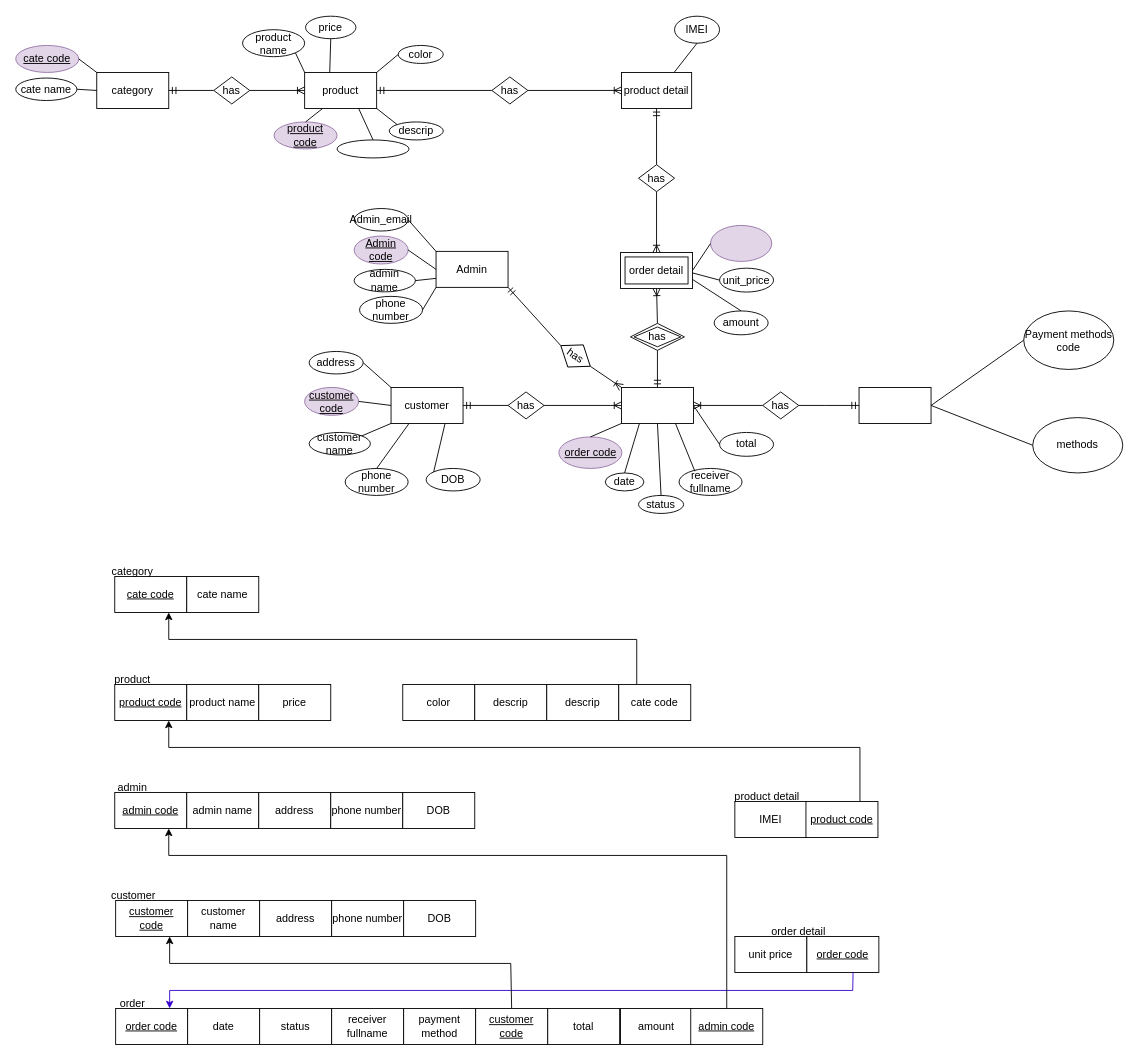
This 1139x1060 diagram has some shape labels left out. The shapes that lost their labels are listed below. From the top down, each one's centre as x and y in pixels, then its label:
At (x=372, y=148): "release_date".
At (x=741, y=243): "order detail code".
At (x=657, y=405): "orders".
At (x=894, y=405): "Payment methods".
